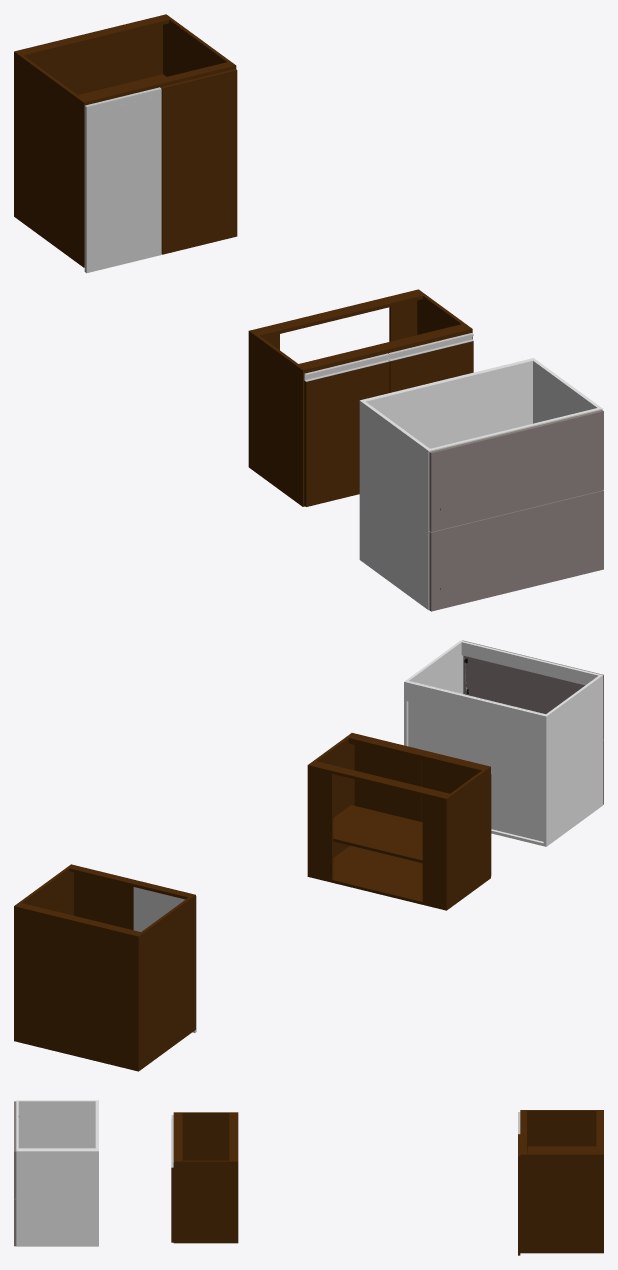
File: proyecto.glb
3 renders of one model, top to bottom at view 1: azimuth 30°, elevation 25°; view 2: azimuth 150°, elevation 25°; view 3: azimuth 270°, elevation 25°, orthographic. The views are drawn at different scales.
Visible parts, largest first — view 1: P024, P023, P022, P019, P021, P029, P031, P013, P010, P016, P012, P030 (+9 smaller); view 2: P016, P031, P021, P029, P010, P024, P003, P012, P004, P025, P019, P005 (+11 smaller); view 3: P020, P030, P011, P029, P021, P010, P015, P007, P008, P019, P017, P014 (+4 smaller).
Boxes of the visible parts, bbox=[...] form: P024: bbox=[429, 410, 603, 531]; P023: bbox=[429, 490, 603, 611]; P022: bbox=[84, 87, 161, 273]; P019: bbox=[160, 69, 237, 254]; P021: bbox=[14, 51, 87, 267]; P029: bbox=[359, 399, 431, 606]; P031: bbox=[363, 360, 534, 448]; P013: bbox=[304, 361, 389, 506]; P010: bbox=[248, 330, 305, 506]; P016: bbox=[27, 21, 162, 94]; P012: bbox=[389, 341, 473, 392]; P030: bbox=[531, 358, 602, 423]; P016: bbox=[14, 906, 138, 1070]; P031: bbox=[408, 681, 546, 841]; P021: bbox=[136, 894, 195, 1071]; P029: bbox=[543, 674, 602, 843]; P010: bbox=[444, 766, 490, 910]; P024: bbox=[462, 640, 603, 739]; P003: bbox=[310, 845, 443, 909]; P012: bbox=[354, 745, 421, 821]; P004: bbox=[333, 805, 422, 863]; P025: bbox=[406, 681, 544, 734]; P019: bbox=[74, 872, 133, 930]; P005: bbox=[310, 768, 333, 879]; P020: bbox=[520, 1153, 603, 1253]; P030: bbox=[16, 1150, 98, 1244]; P011: bbox=[173, 1160, 238, 1243]; P029: bbox=[16, 1100, 98, 1148]; P021: bbox=[520, 1110, 603, 1153]; P010: bbox=[173, 1112, 238, 1160]; P015: bbox=[527, 1146, 596, 1153]; P007: bbox=[229, 1113, 238, 1160]; P008: bbox=[173, 1113, 182, 1160]; P019: bbox=[518, 1134, 520, 1255]; P017: bbox=[596, 1111, 603, 1153]; P014: bbox=[520, 1111, 526, 1153].
Bounding box in the file's own units: 1.05 × 0.7934 × 3.93.
